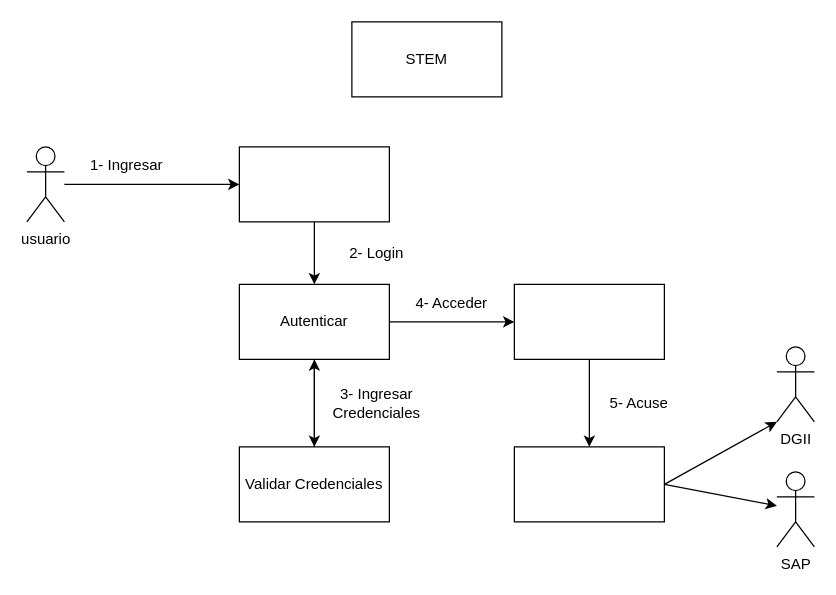
Image size: 836x595. Some labels were removed from this diagram. The box of each missing label's shape, as (x1, y1, x2, y2) in pixels:
Aprobar o Rechazar: (513, 446, 664, 522)
Pantalla Inicio: (238, 146, 389, 222)
Pantalla Recepcion de e-CF: (513, 283, 664, 359)
